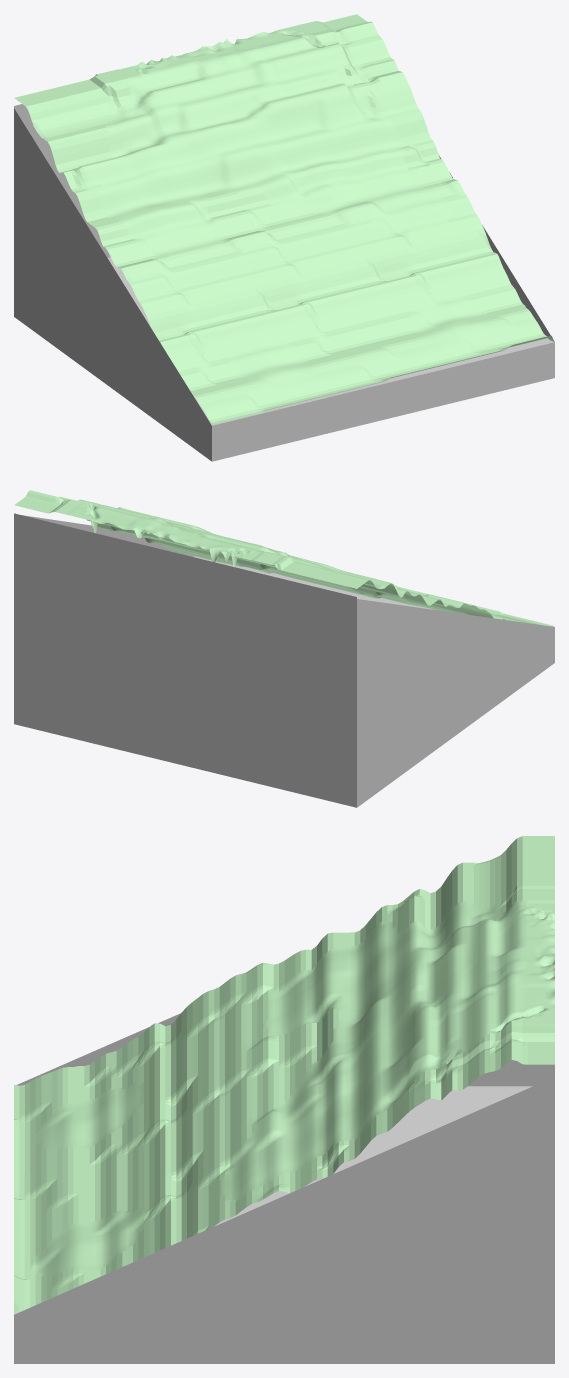
File: map4.dae
The picture shows the model from 3 angles, top to bottom: view 1: azimuth 30°, elevation 25°; view 2: azimuth 150°, elevation 25°; view 3: azimuth 270°, elevation 25°; orthographic projection. The views are drawn at different scales.
Parts seen in each view (by area): view 1: group_0, SketchUp; view 2: SketchUp, group_0; view 3: group_0, SketchUp.
Boxes of the visible parts, bbox=[...] form: group_0: bbox=[14, 14, 554, 424]; SketchUp: bbox=[14, 104, 554, 461]; SketchUp: bbox=[14, 513, 554, 807]; group_0: bbox=[14, 490, 554, 626]; group_0: bbox=[14, 836, 554, 1314]; SketchUp: bbox=[14, 976, 554, 1363].
Size of the model in its own units: 20 by 20 by 12.61.
